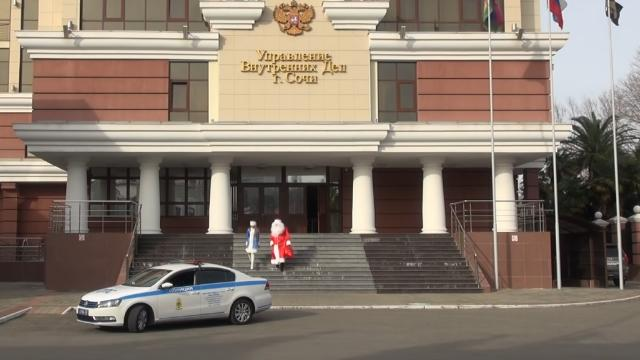police car: (73, 255, 275, 336)
